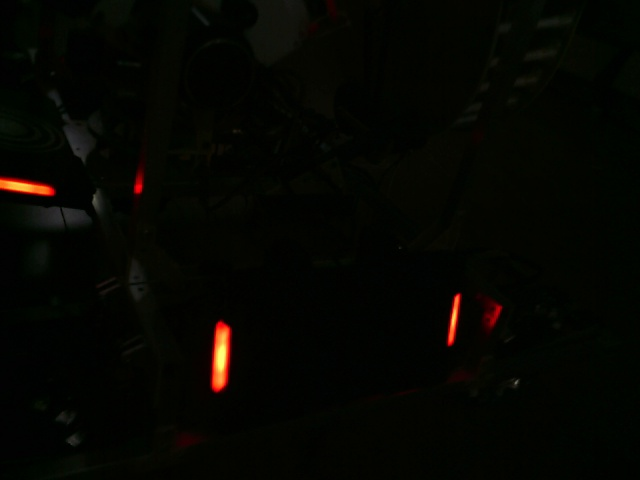lamp: (207, 319, 234, 391), (447, 292, 466, 349)
